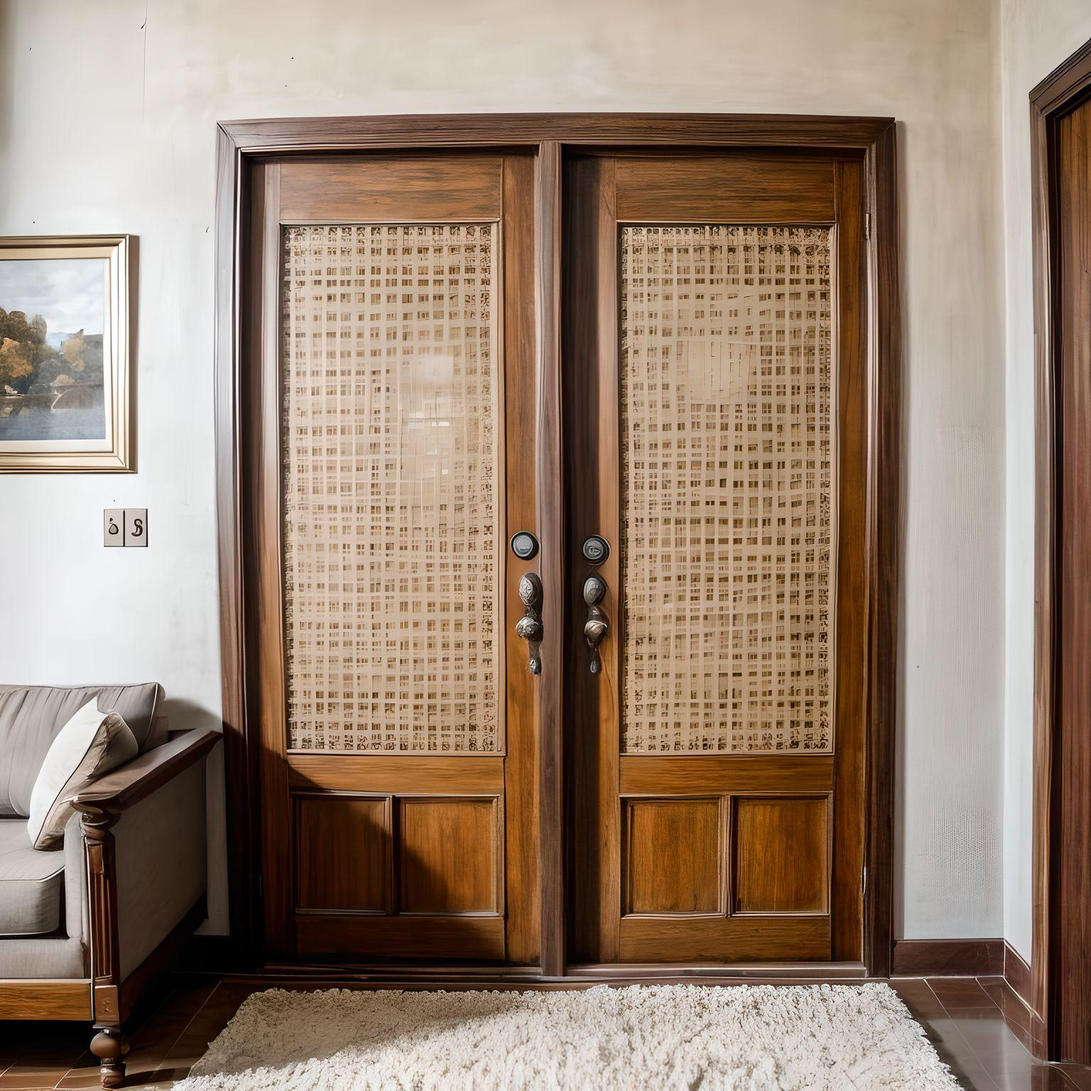door: (246, 156, 575, 966), (577, 136, 867, 987), (1058, 118, 1091, 1082)
sofa: (0, 684, 223, 1084)
